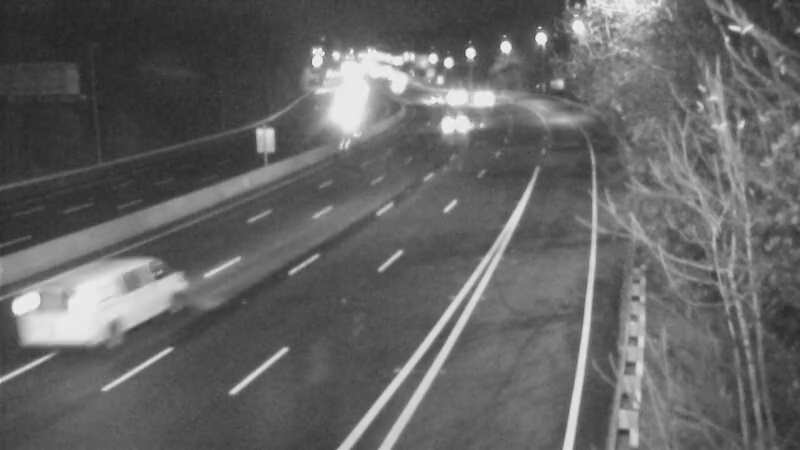vehicle: (12, 259, 122, 369), (372, 61, 422, 111), (436, 67, 486, 117), (405, 78, 455, 128), (457, 79, 507, 129), (428, 98, 478, 148)
